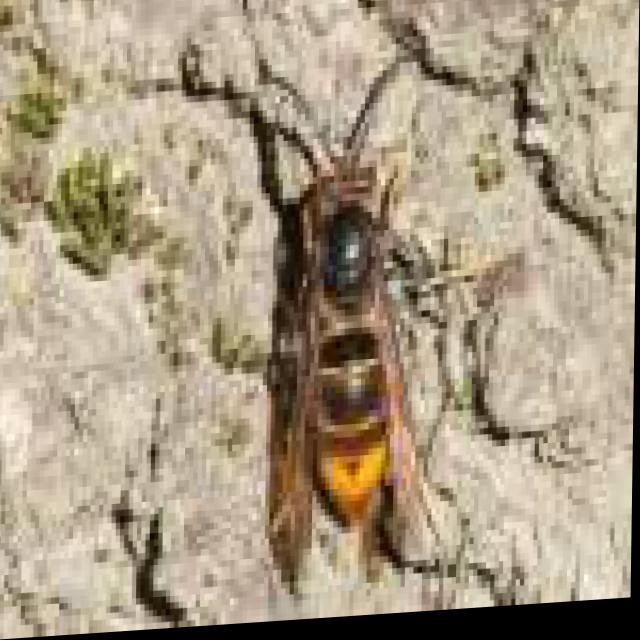Vespa Velutina: (249, 41, 458, 613)
